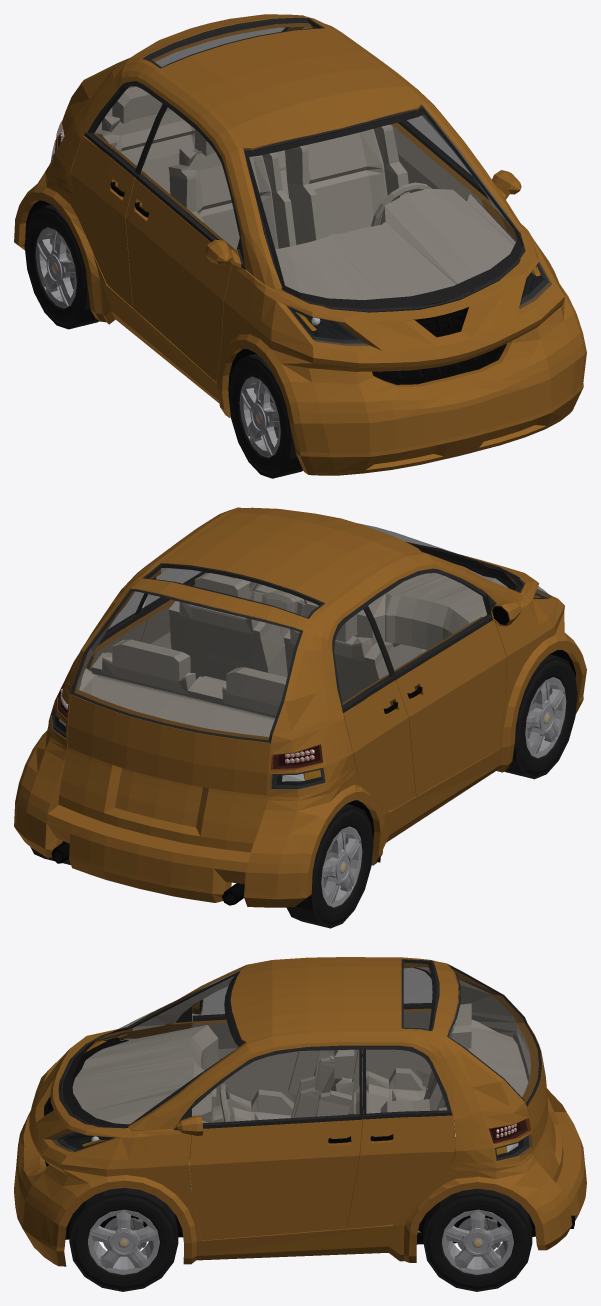
The model's file is Little old car.fbx.
3 views of the same model, one above another, from view 1: azimuth 30°, elevation 25°; view 2: azimuth 150°, elevation 25°; view 3: azimuth 270°, elevation 25° (orthographic). The views are drawn at different scales.
Parts seen in each view (by area): view 1: Small_body, Small_2, Small_insi, RAD_VR, RAD_HR; view 2: Small_body, Small_2, Small_insi, RAD_HR, RAD_VR; view 3: Small_body, Small_2, Small_insi, RAD_VL, RAD_HL.
Boxes of the visible parts, x1,y1,x2,y2 form: Small_body: (14,14,586,475); Small_2: (25,14,551,391); Small_insi: (93,86,516,307); RAD_VR: (228,353,303,478); RAD_HR: (24,204,99,329); Small_body: (14,507,586,907); Small_2: (50,523,575,905); Small_insi: (79,545,516,754); RAD_HR: (286,804,373,928); RAD_VR: (504,654,577,779); Small_body: (14,957,586,1266); Small_2: (44,959,575,1261); Small_insi: (60,1003,530,1232); RAD_VL: (69,1188,178,1291); RAD_HL: (423,1188,532,1291).
Bounding box in the file's own units: 76.11 × 66.69 × 141.
